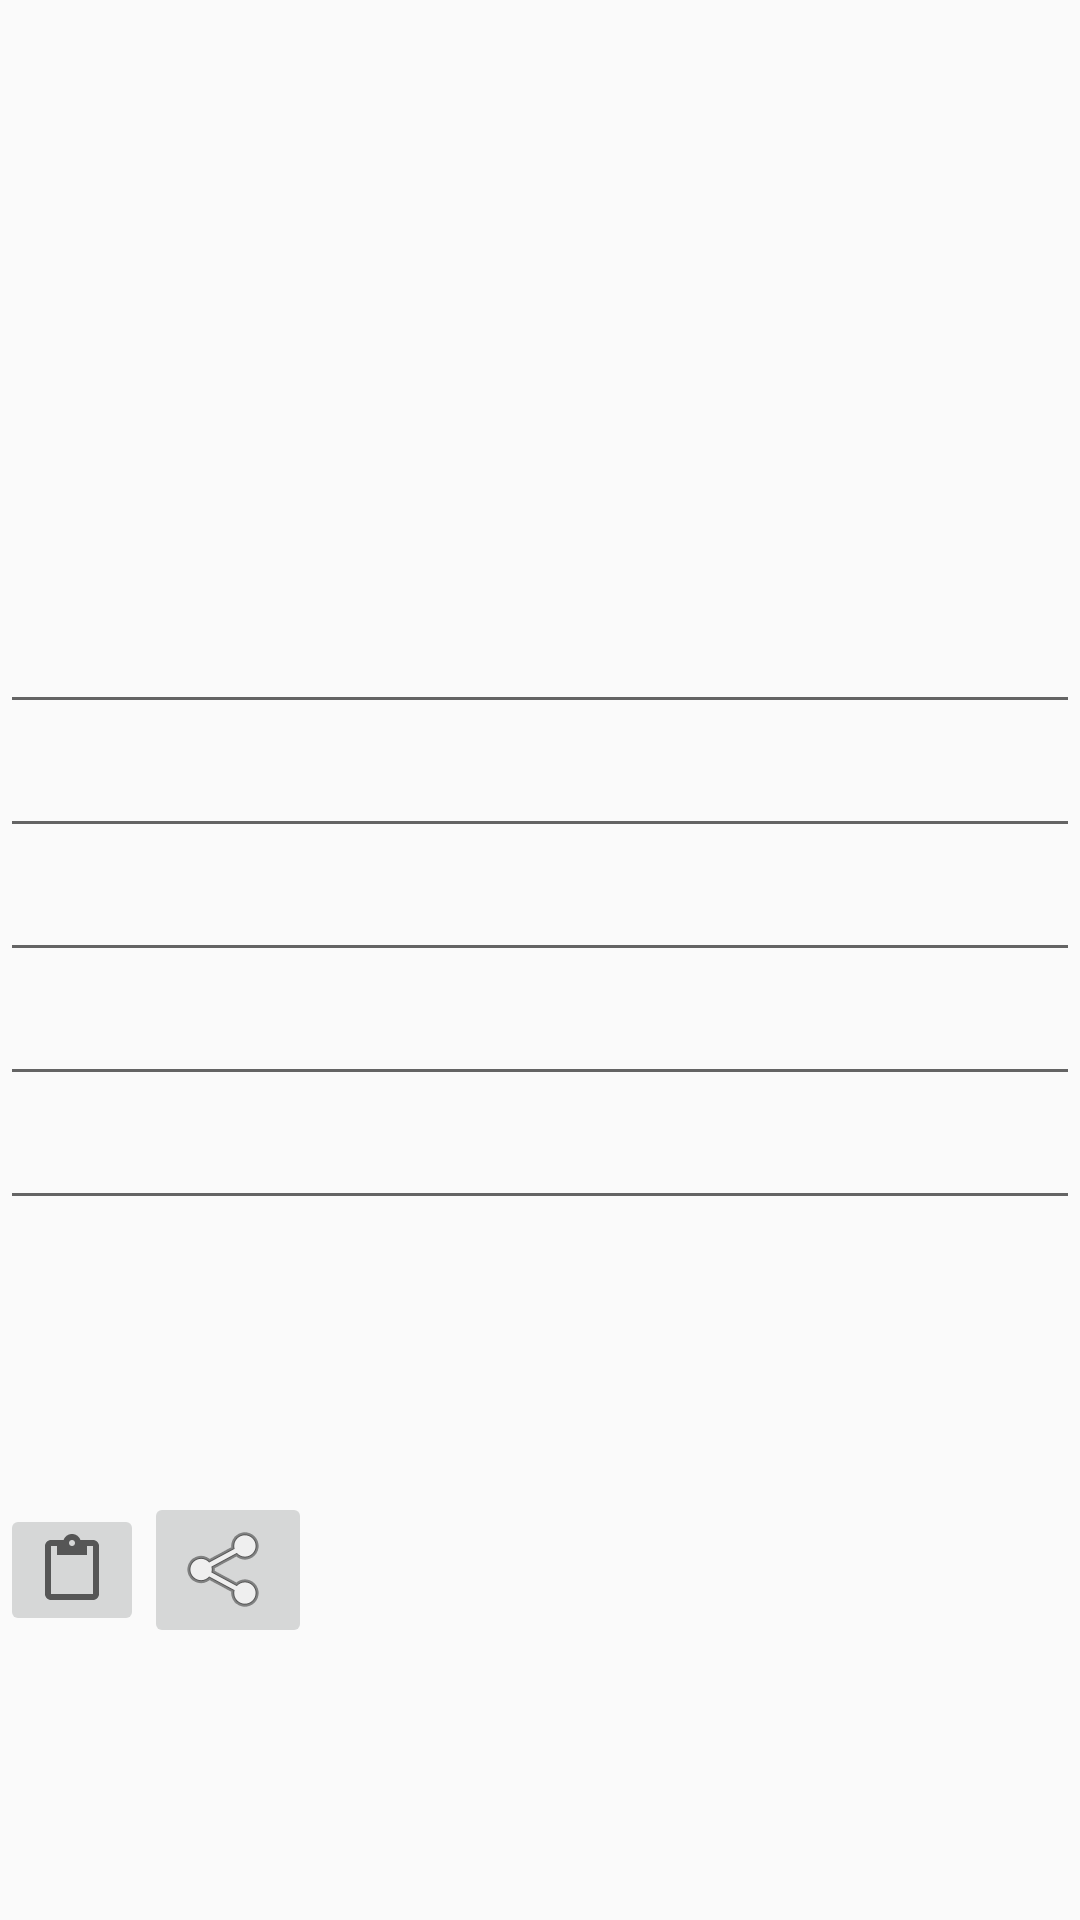

Named icons in this screenshot (1080×1920) and their bounding boxes, (x1, y1, x2, y2):
share: (156, 1510, 300, 1630)
